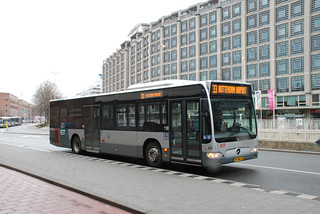bus: (48, 80, 258, 169)
